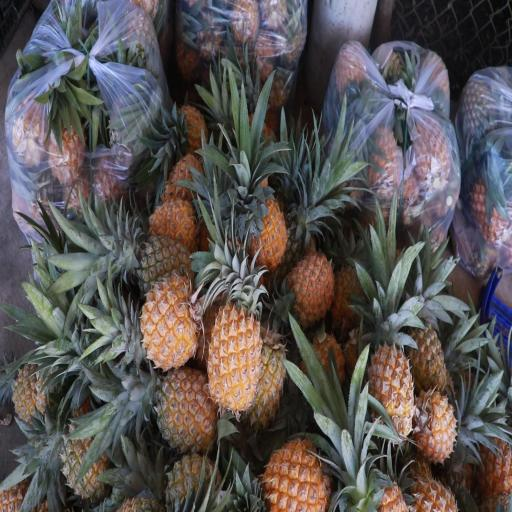------------------------------: (55, 411, 112, 501), (131, 230, 190, 305), (166, 446, 222, 512)
Pineapple - v8 v1: (204, 286, 262, 421), (138, 266, 208, 377), (365, 313, 413, 444), (256, 426, 329, 512), (153, 360, 219, 454), (243, 306, 287, 426), (403, 380, 460, 470), (400, 318, 454, 395), (283, 248, 335, 327), (243, 184, 288, 273), (475, 419, 512, 512), (148, 192, 200, 256), (154, 152, 207, 211)
